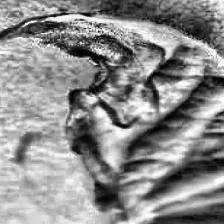disease: (0, 14, 224, 224)
